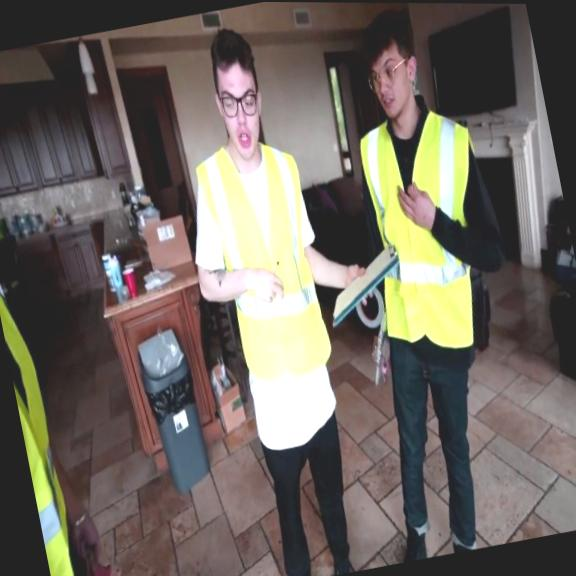safety_vest: (342, 103, 510, 363), (190, 133, 340, 392), (0, 238, 91, 576)
